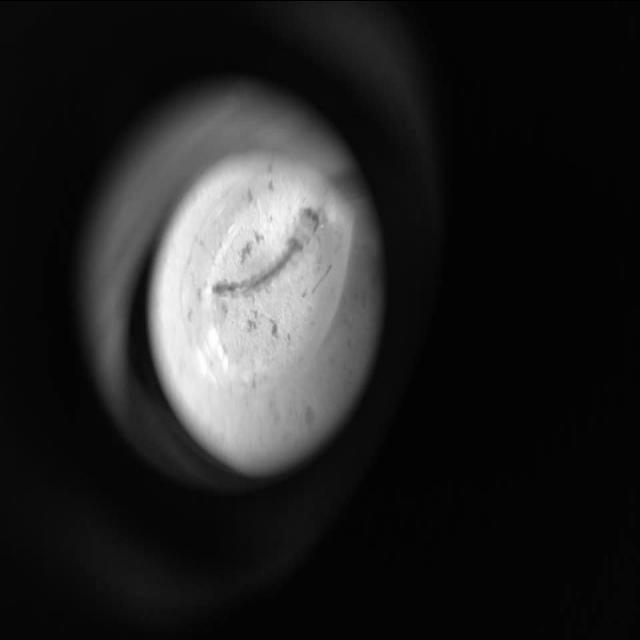larvas: (210, 212, 323, 293)
